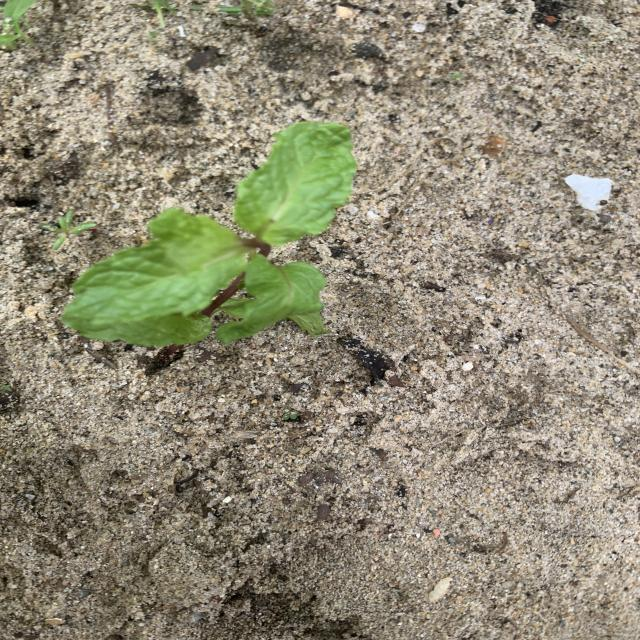crop: (63, 121, 355, 347)
weed: (40, 211, 95, 249), (219, 0, 275, 23), (137, 1, 175, 30), (281, 409, 301, 422)
